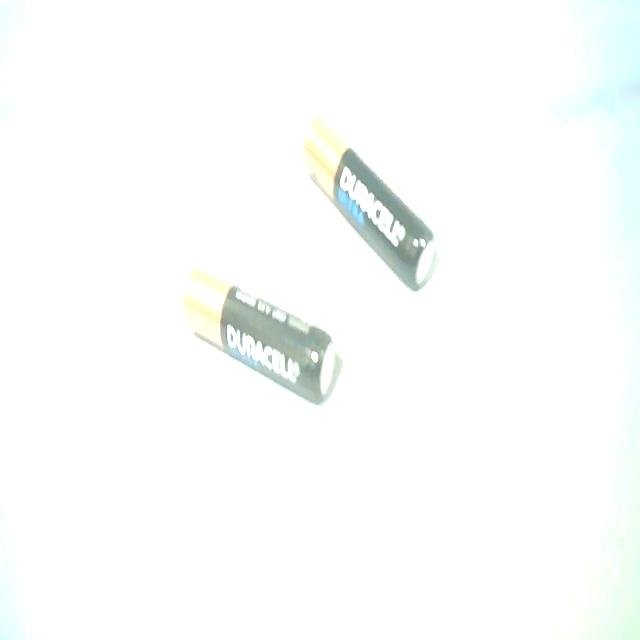AAA: (296, 110, 442, 290), (177, 256, 340, 406)
